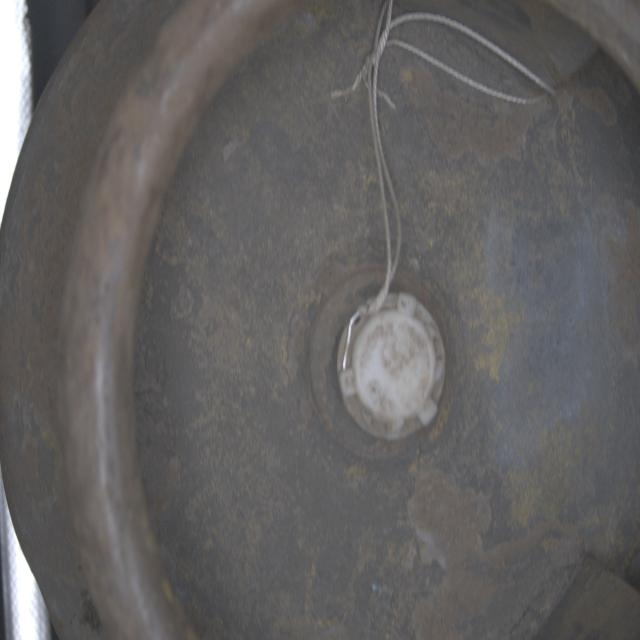Cap: (337, 291, 447, 444)
